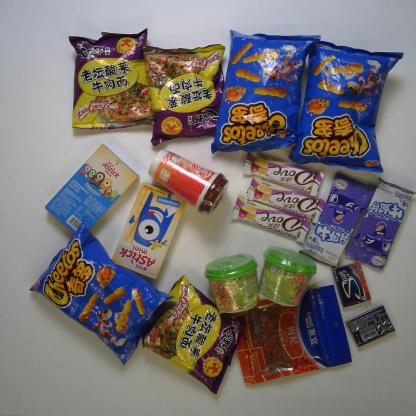Candy: (298, 172, 376, 269), (343, 177, 416, 271)
Chocolate: (245, 175, 326, 224), (230, 195, 312, 243), (242, 151, 324, 197)
Dessert: (43, 142, 141, 236), (111, 181, 186, 282)
Dried Fruit: (230, 284, 353, 387)
Gum: (345, 305, 396, 348), (332, 261, 372, 308)
Instant Drink: (147, 148, 230, 216), (258, 246, 318, 308), (203, 253, 261, 314)
Instant Noodles: (140, 274, 248, 396), (68, 27, 156, 130), (142, 42, 227, 147)
Puffed Food: (28, 218, 176, 366), (288, 39, 405, 174), (210, 28, 322, 156)
